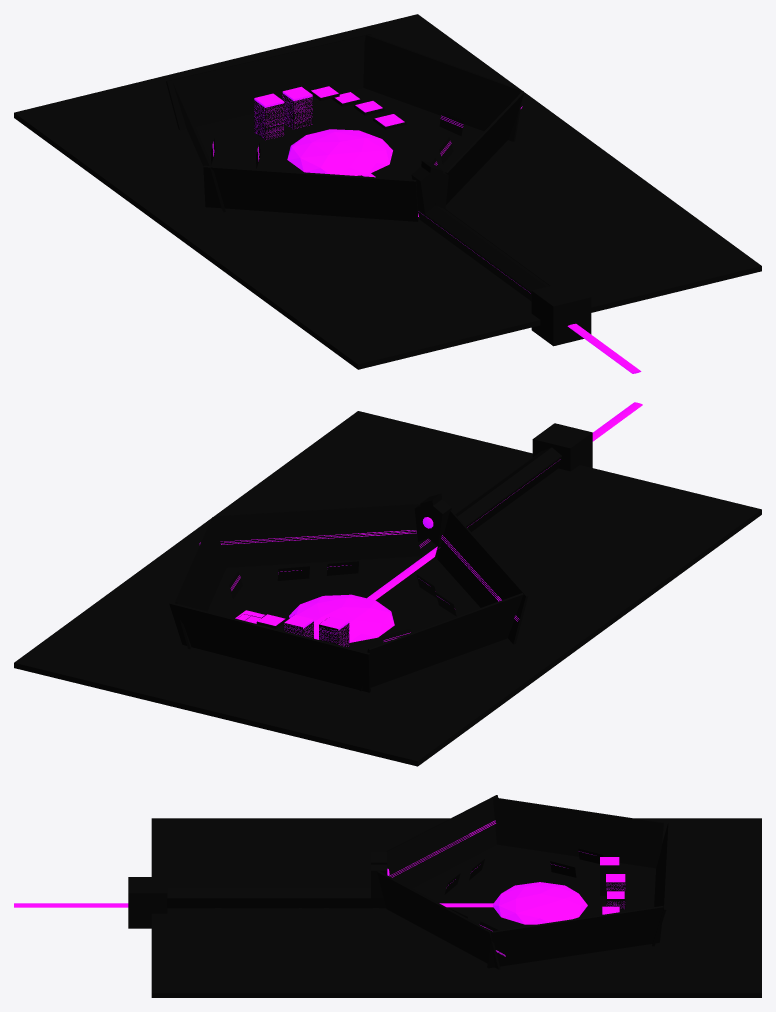
Rendered from level01.fbx.
3 views of the same model, one above another, from view 1: azimuth 30°, elevation 25°; view 2: azimuth 150°, elevation 25°; view 3: azimuth 270°, elevation 25° (orthographic). The views are drawn at different scales.
Parts seen in each view (by area): view 1: Cube.026, Cube.000, Cube.027, Cube.025, Icosphere, Cube, Cube.020, Cube.036, Cube.035, Cube.024, Cylinder.010, Cube.013; view 2: Cube.026, Cube.020, Cube.000, Cube.024, Cube.027, Icosphere, Cube.025, Cube, Cylinder.010, Cylinder.016; view 3: Cube.026, Cube.024, Cube.025, Cube.027, Cube.020, Icosphere, Cube, Cube.000, Cylinder.010, Cube.012.
Part boxes in pixels (x1,y1,x2,y2): Cube.026: (14,14,761,369); Cube.000: (166,34,371,129); Cube.027: (203,165,418,221); Cube.025: (363,35,523,141); Icosphere: (287,129,392,175); Cube: (531,281,591,346); Cube.020: (445,92,523,204); Cube.036: (254,93,284,140); Cube.035: (282,89,312,129); Cube.024: (173,82,225,212); Cylinder.010: (362,173,641,373); Cube.013: (411,166,435,213); Cube.026: (14,411,761,766); Cube.020: (215,504,420,567); Cube.000: (169,602,370,692); Cube.024: (359,592,525,690); Cube.027: (437,510,527,644); Icosphere: (289,594,394,642); Cube.025: (175,517,226,649); Cube: (532,423,592,471); Cylinder.010: (367,402,642,600); Cylinder.016: (199,530,416,544); Cube.026: (151,818,761,997); Cube.024: (491,797,663,868); Cube.025: (487,906,663,968); Cube.027: (386,795,498,888); Cube.020: (377,871,500,969); Icosphere: (493,882,587,924); Cube: (128,877,167,928); Cube.000: (652,822,670,946); Cylinder.010: (14,903,493,907); Cube.012: (371,864,387,898).
Size of the model in its own units: 33781 by 7083 by 61097.
